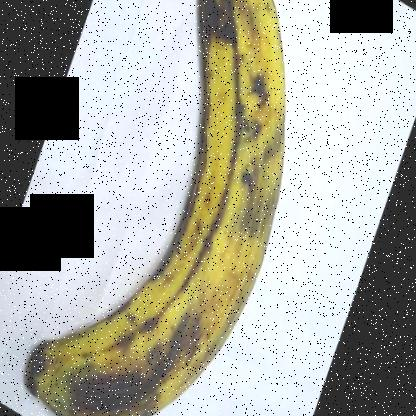overripe: (19, 1, 301, 415)
